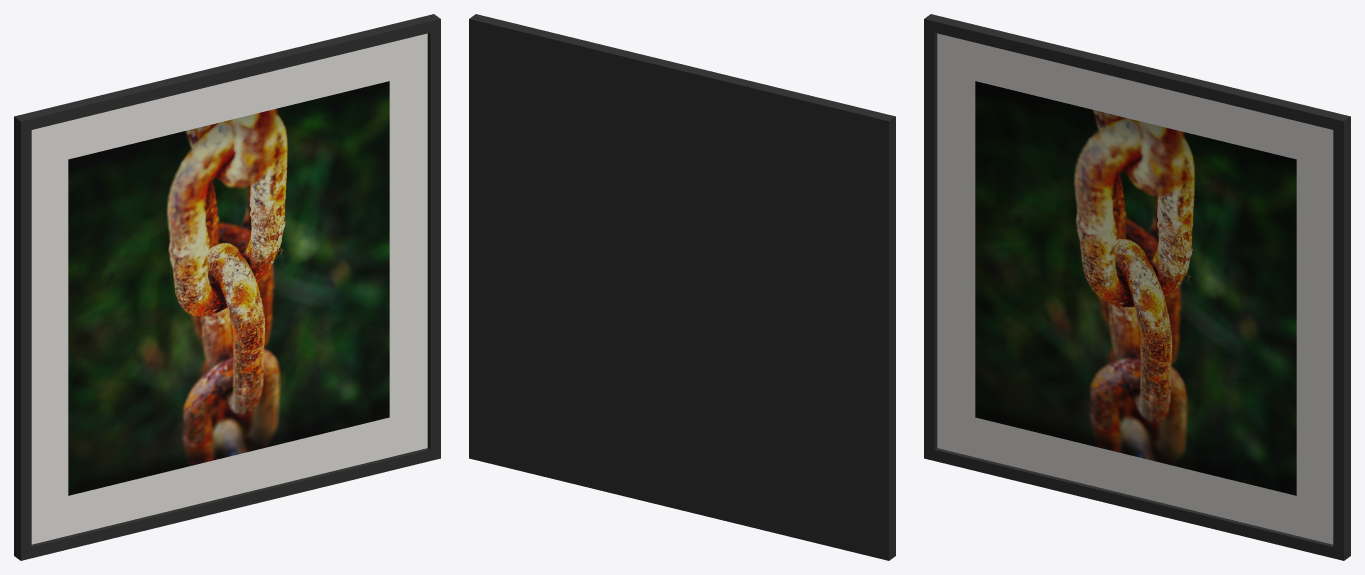
File: kedjan-60.gltf
The picture shows the model from 3 angles, left to right: view 1: azimuth 30°, elevation 25°; view 2: azimuth 150°, elevation 25°; view 3: azimuth 330°, elevation 25°; orthographic projection.
Visible parts, largest first — view 1: tavla; view 2: tavla; view 3: tavla.
Part boxes in pixels (x1,y1,x2,y2): tavla: [14, 14, 440, 560]; tavla: [469, 14, 895, 560]; tavla: [924, 14, 1350, 560].
Bounding box in the file's own units: 0.784 × 0.784 × 0.022.
Materials: 3 (1 with a texture image).
